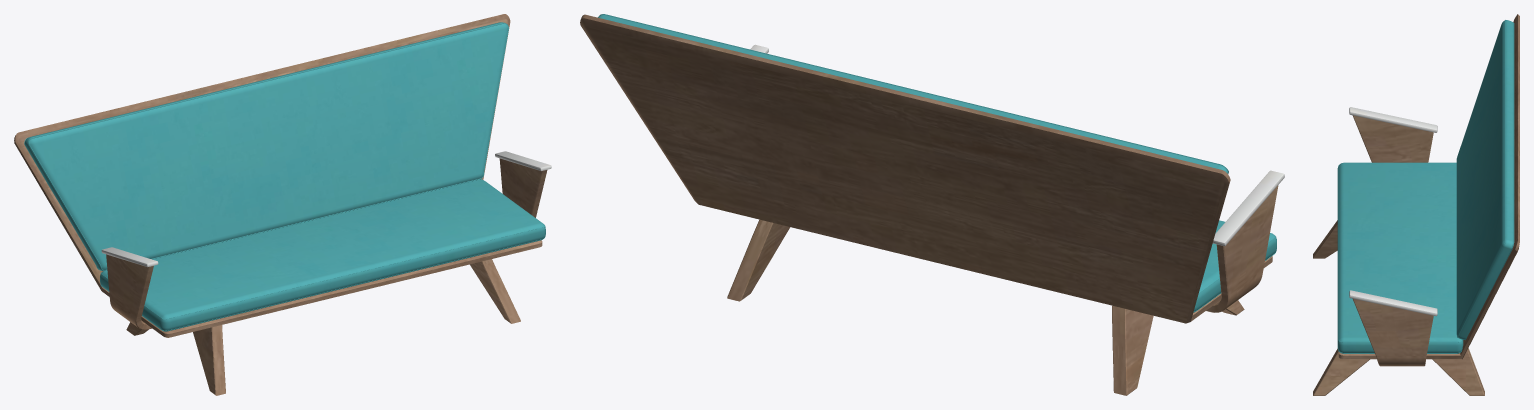
File: cargo_bench.glb
3 views of the same model, side by side, from view 1: azimuth 30°, elevation 25°; view 2: azimuth 150°, elevation 25°; view 3: azimuth 270°, elevation 25° (orthographic). The views are drawn at different scales.
Parts seen in each view (by area): view 1: KB3D_ATP_PropBench_A_Main; view 2: KB3D_ATP_PropBench_A_Main; view 3: KB3D_ATP_PropBench_A_Main.
Boxes of the visible parts, x1,y1,x2,y2 form: KB3D_ATP_PropBench_A_Main: (14, 14, 551, 395); KB3D_ATP_PropBench_A_Main: (580, 14, 1284, 395); KB3D_ATP_PropBench_A_Main: (1313, 14, 1519, 395).
Bounding box in the file's own units: 2.1 × 0.8393 × 0.7962.
Materials: 3 (3 with a texture image).
